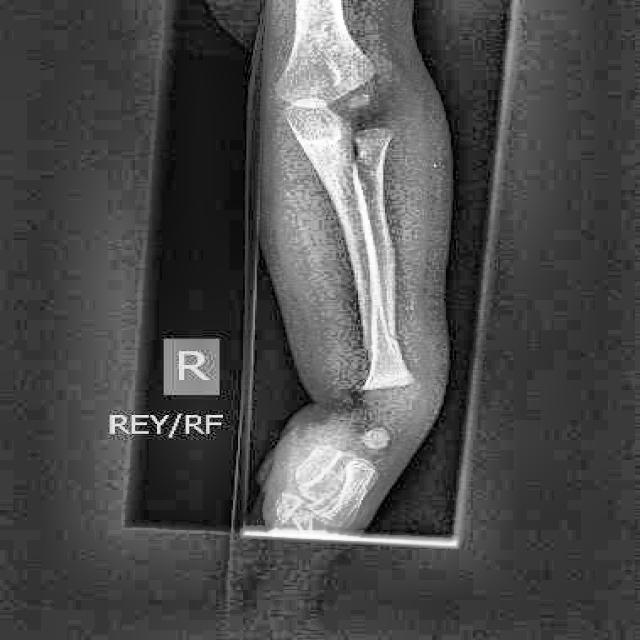forearm fracture: (374, 307, 430, 370)
